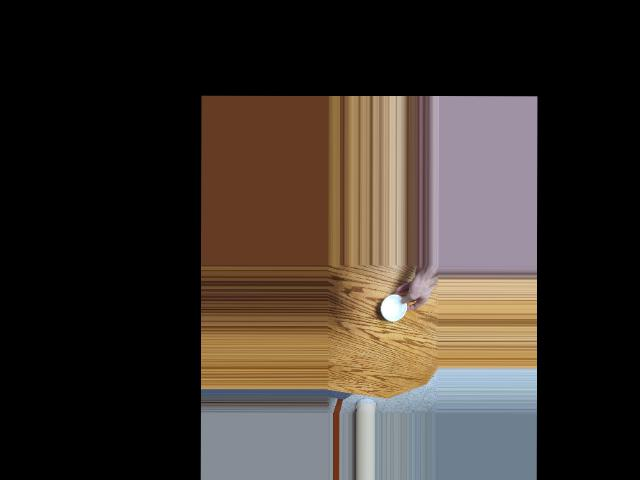cotage: (380, 292, 408, 321)
